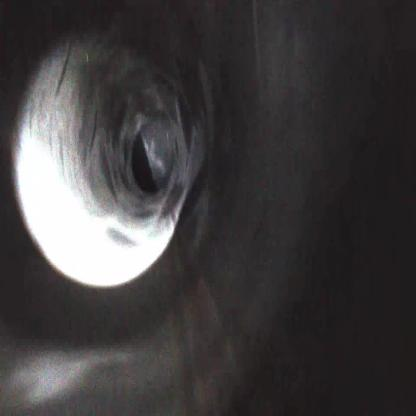Crack: (13, 12, 215, 283)
